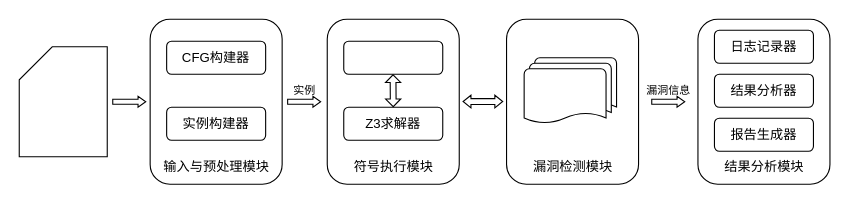
This 849x204 diagram has some shape labels left out. The centre of each missing label's shape, as x and y in pixels:
Rust智能合约: (x=62, y=101)
漏洞检测规则: (x=570, y=90)
符号执行引擎: (x=393, y=57)
